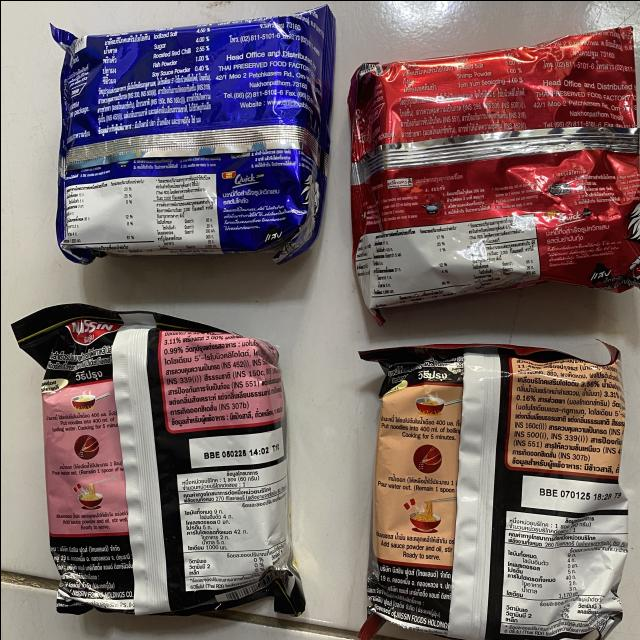plastik: (11, 303, 303, 614), (347, 27, 640, 312), (358, 344, 627, 640), (51, 5, 334, 263)
